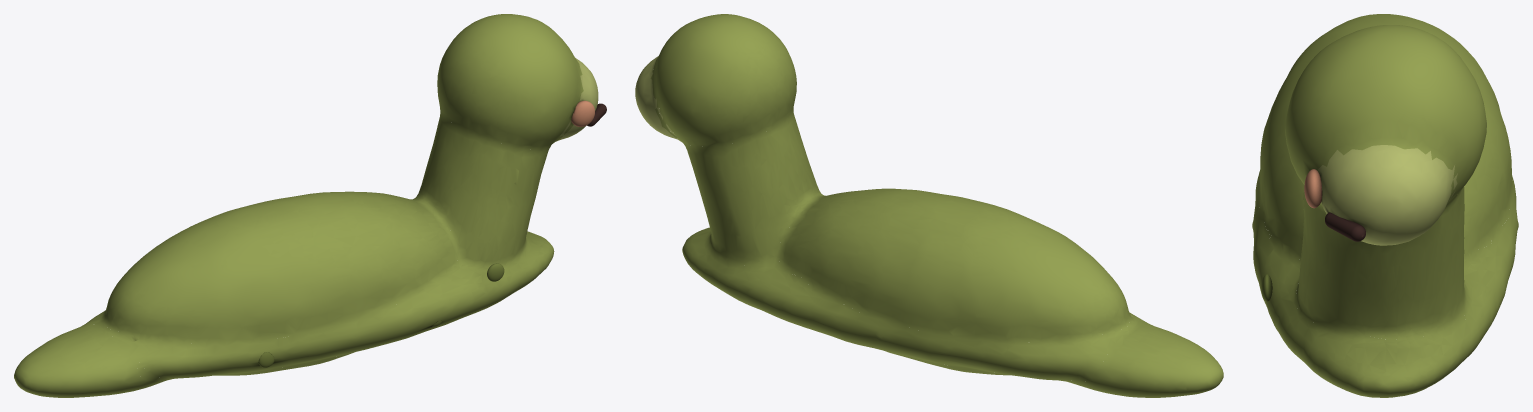
Rendered from lycka-till.glb.
The picture shows the model from 3 angles, left to right: view 1: azimuth 30°, elevation 25°; view 2: azimuth 150°, elevation 25°; view 3: azimuth 270°, elevation 25°; orthographic projection. The views are drawn at different scales.
Visible parts, largest first — view 1: caracol__r0; view 2: caracol__r0; view 3: caracol__r0, caracol__r2, caracol__r3, caracol__r1.
Part boxes in pixels (<box>): caracol__r0: <box>14,14,598,397</box>; caracol__r0: <box>635,14,1223,397</box>; caracol__r0: <box>1252,14,1518,397</box>; caracol__r2: <box>1325,212,1365,241</box>; caracol__r3: <box>1304,169,1322,208</box>; caracol__r1: <box>1261,274,1272,301</box>.
Size of the model in its own units: 2.4 by 1.12 by 0.6796.
